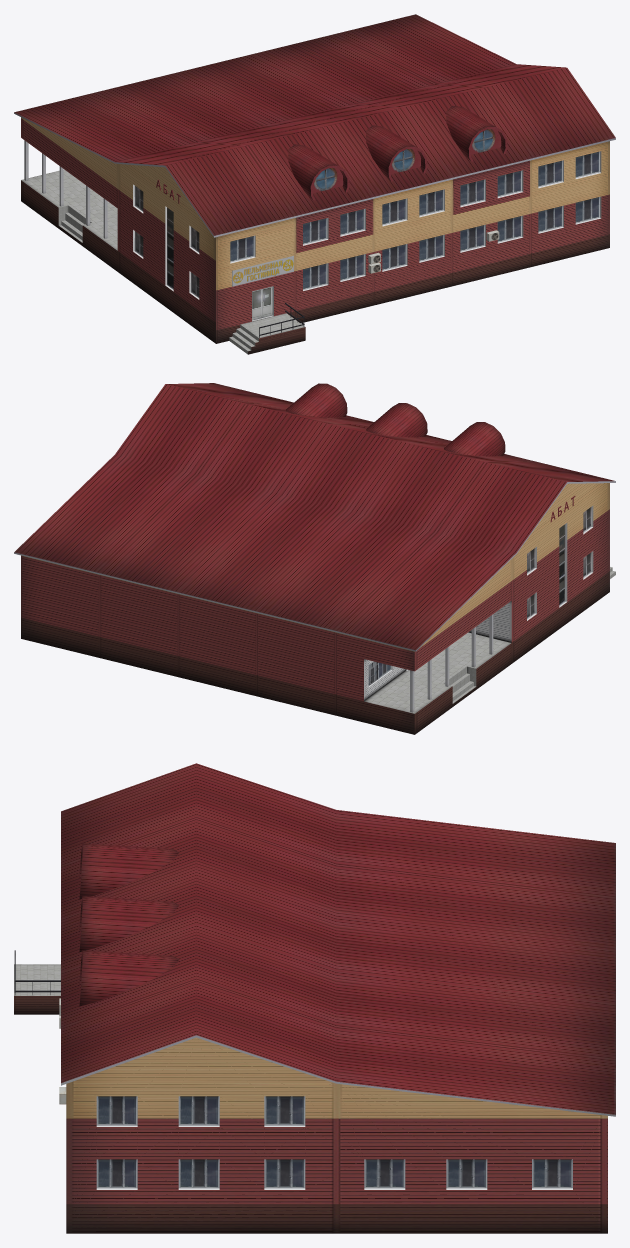
Rendered from r402_abat.FBX.
The picture shows the model from 3 angles, top to bottom: view 1: azimuth 30°, elevation 25°; view 2: azimuth 150°, elevation 25°; view 3: azimuth 270°, elevation 25°; orthographic projection. The views are drawn at different scales.
Parts seen in each view (by area): view 1: r402_abat; view 2: r402_abat; view 3: r402_abat.
Part boxes in pixels (left/top/right/bottom): r402_abat: left=14, top=14, right=615, bottom=354; r402_abat: left=14, top=383, right=615, bottom=734; r402_abat: left=14, top=763, right=615, bottom=1233.
Bounding box in the file's own units: 3060 × 2864 × 1056.
